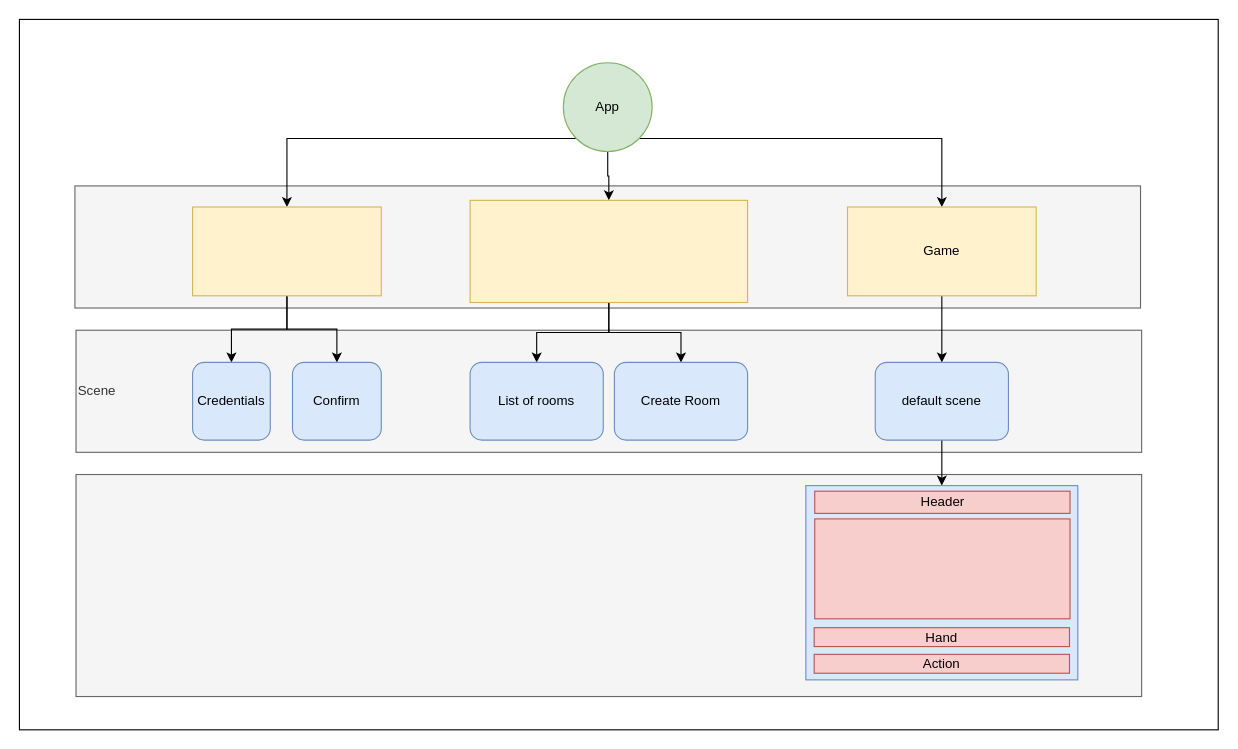
Image size: 1238x749. Some labels were removed from this diagram. The box of each missing label's shape, as (x1, y1, x2, y2) in pixels:
Auth: (191, 206, 381, 296)
Pane: (75, 473, 1142, 697)
Rooms: (469, 199, 748, 302)
Table: (814, 518, 1070, 619)
Window: (74, 185, 1141, 308)
